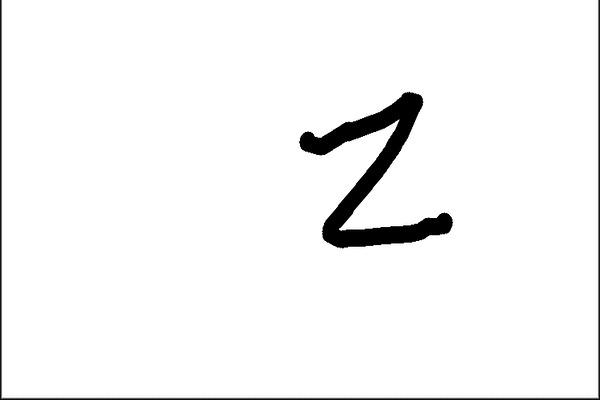Z: (289, 80, 460, 261)
